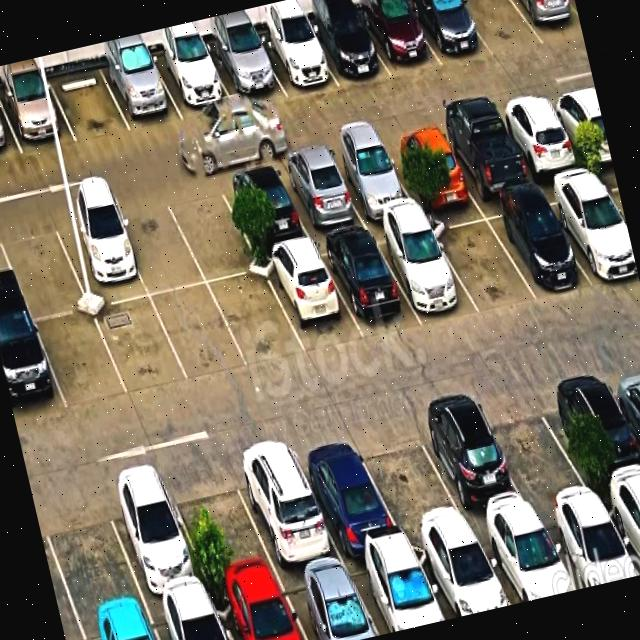occupied: (123, 208, 208, 299)
